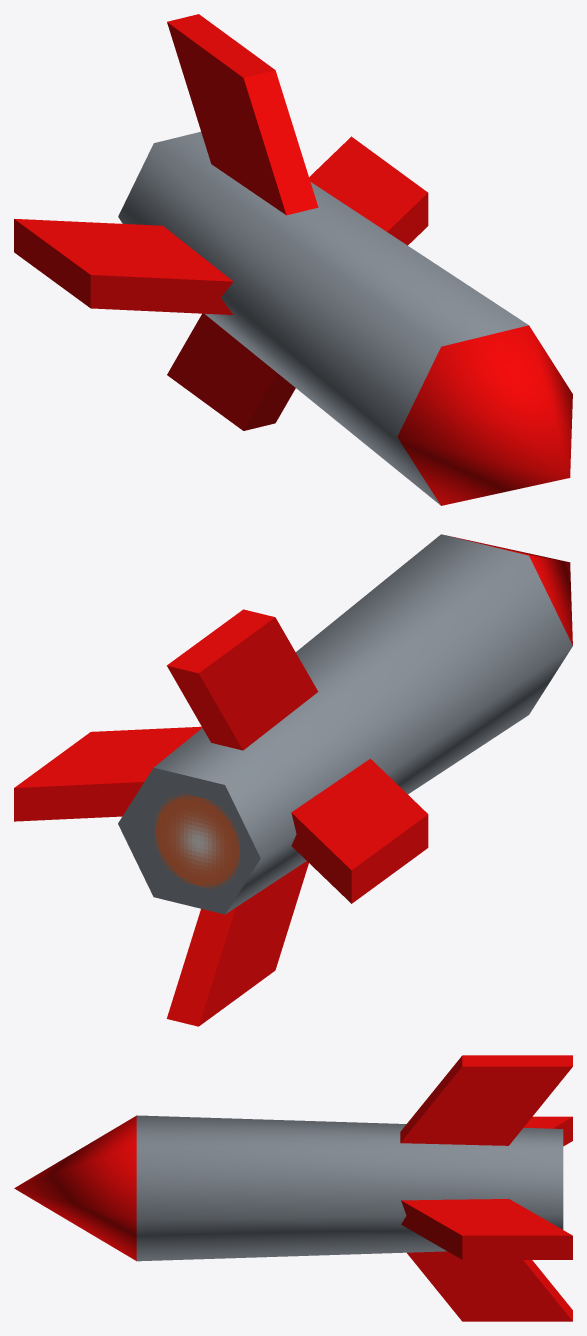
Rendered from Rocket.FBX.
3 renders of one model, top to bottom at view 1: azimuth 30°, elevation 25°; view 2: azimuth 150°, elevation 25°; view 3: azimuth 270°, elevation 25°, orthographic. The views are drawn at different scales.
Parts seen in each view (by area): view 1: RocketMesh; view 2: RocketMesh; view 3: RocketMesh.
Boxes of the visible parts, x1,y1,x2,y2 form: RocketMesh: [14, 14, 572, 505]; RocketMesh: [14, 534, 572, 1026]; RocketMesh: [14, 1055, 572, 1321].
Size of the model in its own units: 1.61 by 1.61 by 3.21.
Materials: 1 (1 with a texture image).
